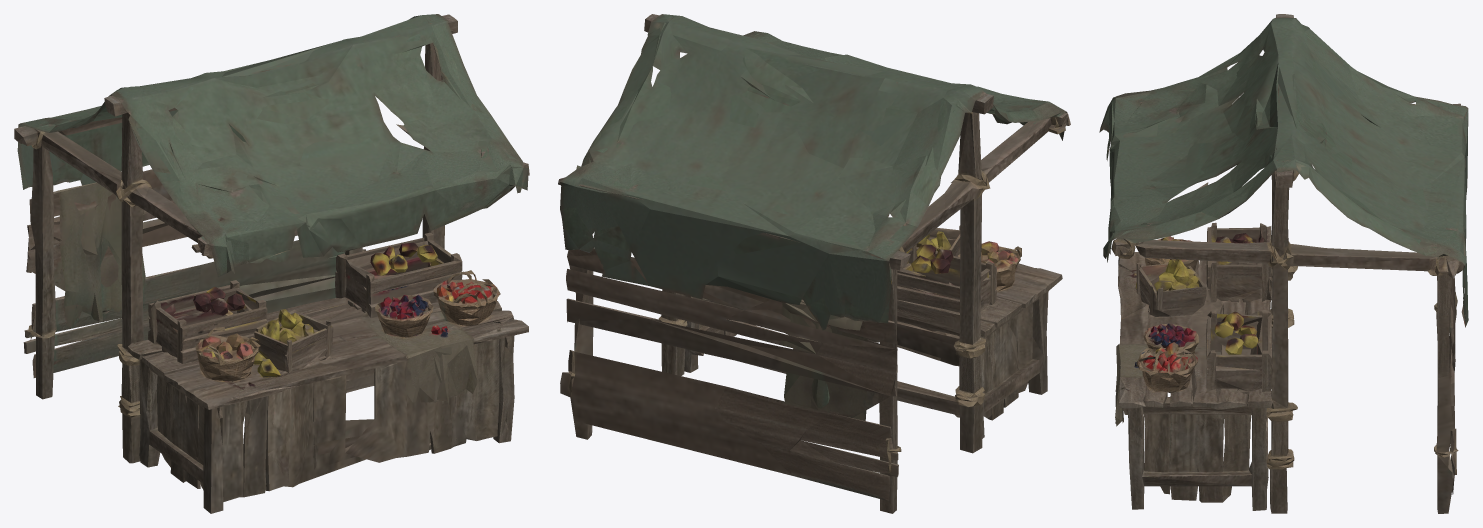
Rendered from BarracaFrutasEldoria.glb.
3 views of the same model, side by side, from view 1: azimuth 30°, elevation 25°; view 2: azimuth 150°, elevation 25°; view 3: azimuth 270°, elevation 25° (orthographic). The views are drawn at different scales.
Visible parts, largest first — view 1: output_unwrapped; view 2: output_unwrapped; view 3: output_unwrapped.
Part boxes in pixels (x1,y1,x2,y2): output_unwrapped: [14, 14, 529, 513]; output_unwrapped: [558, 14, 1070, 513]; output_unwrapped: [1099, 14, 1468, 513].
Size of the model in its own units: 1.9 by 1.89 by 1.81.
1 material, 1 textured.
